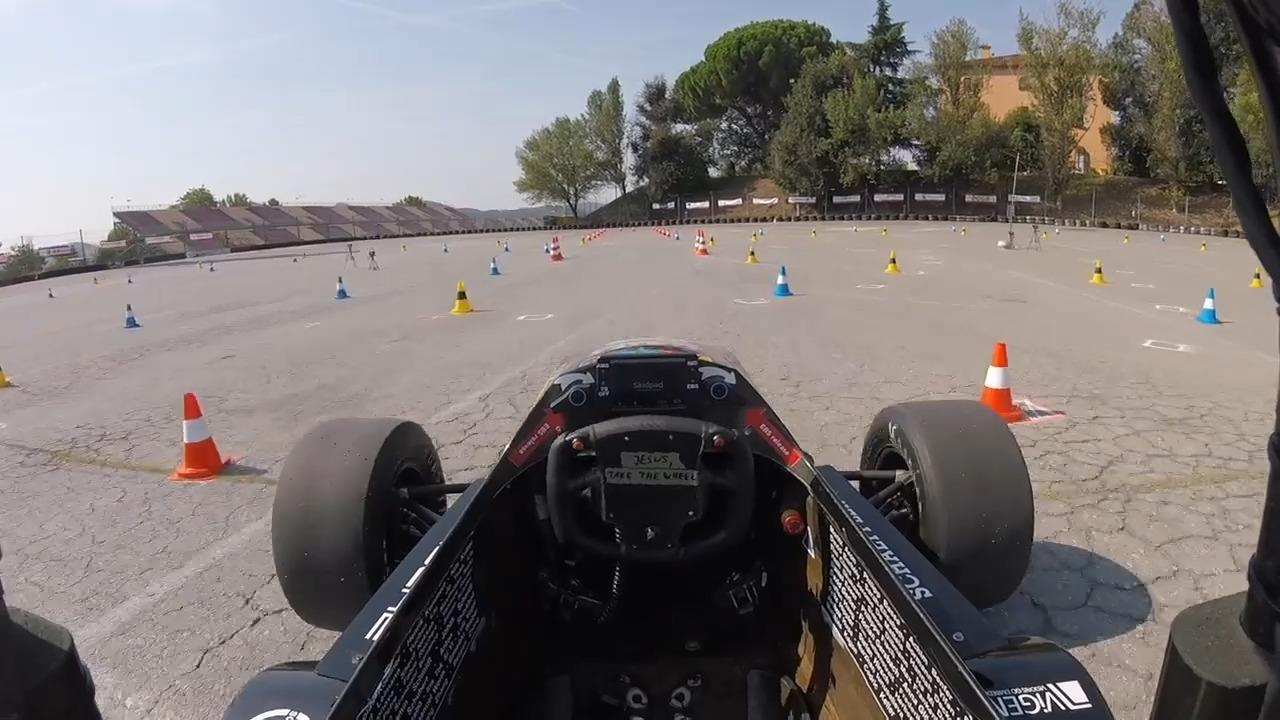blue_cone: (1195, 287, 1219, 326), (773, 266, 792, 299), (124, 303, 138, 329), (334, 276, 347, 301), (488, 257, 501, 277)
large_orange_cone: (697, 231, 709, 255), (553, 237, 563, 261), (550, 236, 559, 262), (694, 229, 703, 255)
orange_cone: (165, 386, 233, 484), (972, 340, 1025, 425)
yellow_cone: (449, 280, 472, 314), (1090, 259, 1109, 286), (884, 249, 902, 275), (1249, 267, 1264, 289), (746, 245, 758, 264), (1200, 240, 1209, 253)
